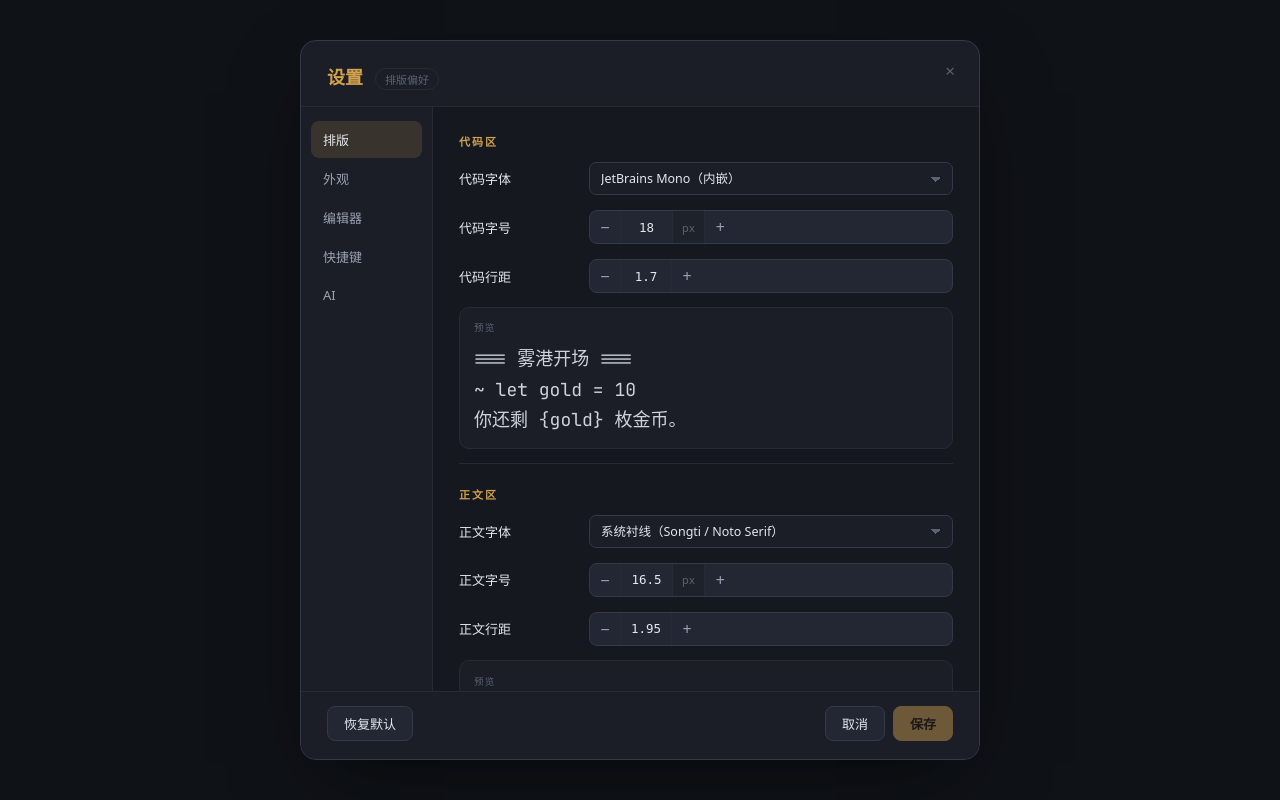
Test: SettingsDialog › 恢复默认 → 草稿回默认（从非默认初值，保存随之启用）
This screenshot has width=1280, height=800.
Expected: the button "保存" is disabled, [893,706,953,741]
Click the button "恢复默认". click: (370, 724)
box: [327,706,413,741]
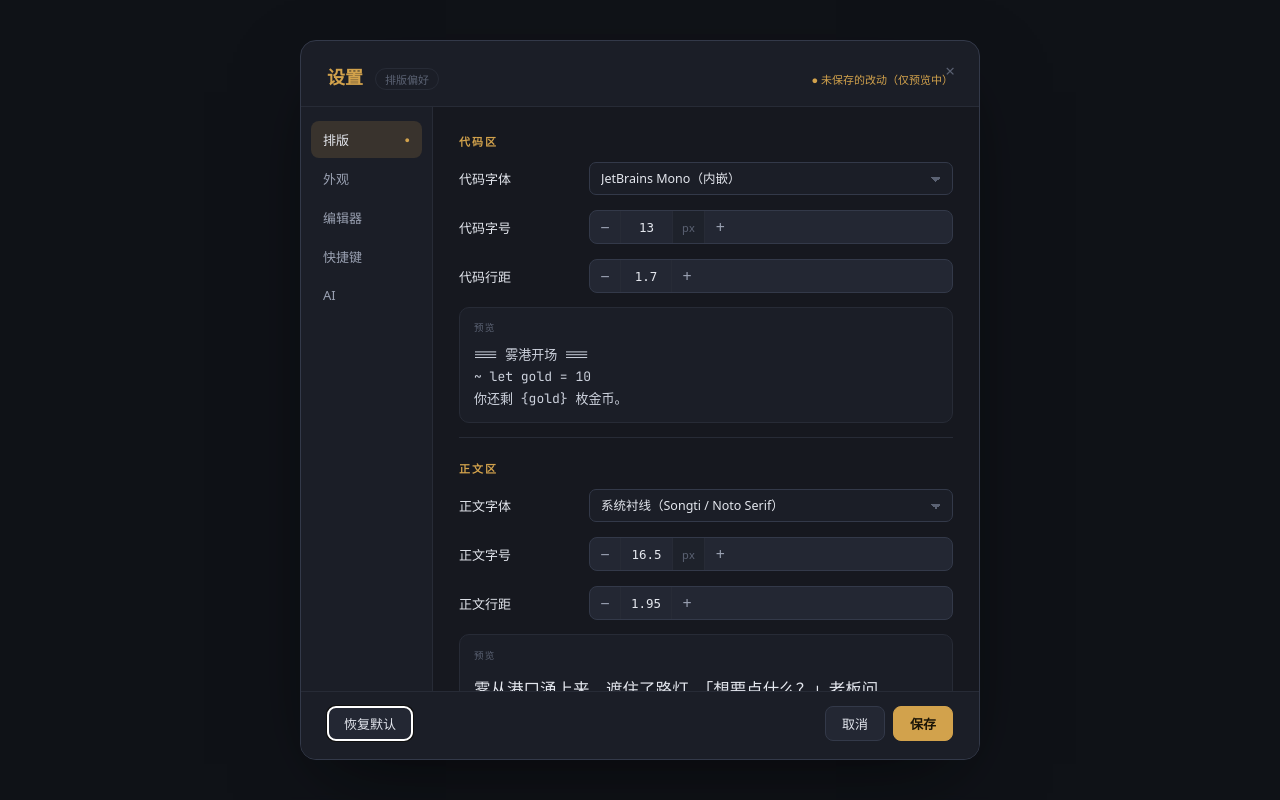
Result: the button "保存" is enabled at [893,706,953,741]
